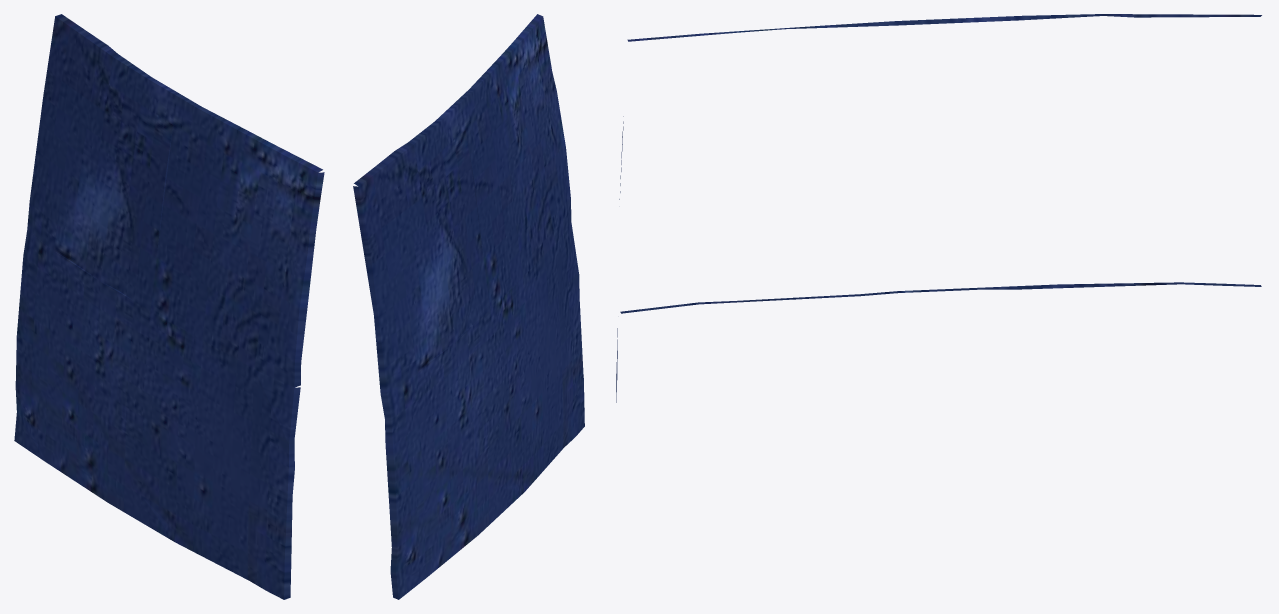
The picture shows the model from 3 angles, left to right: view 1: azimuth 30°, elevation 25°; view 2: azimuth 150°, elevation 25°; view 3: azimuth 270°, elevation 25°; orthographic projection. The views are drawn at different scales.
Bounding box in the file's own units: 261195 × 1252818 × 1259194.
1 material, 1 textured.
